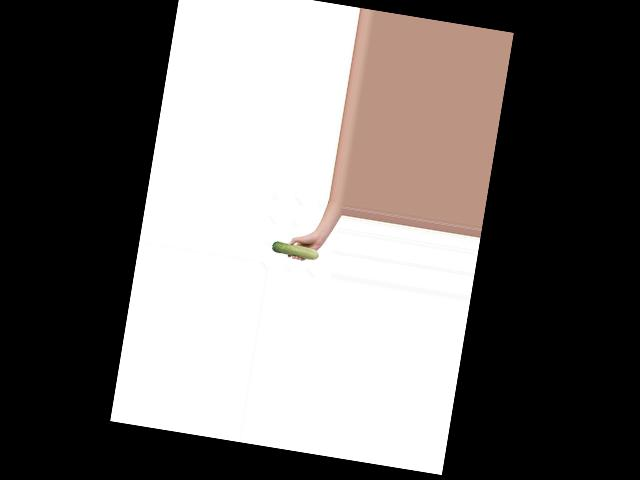cucumber: (271, 239, 320, 260)
